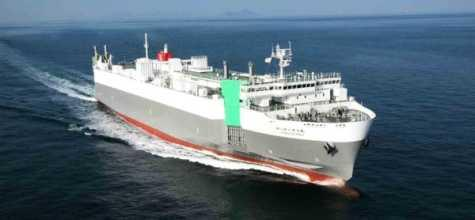warship: (82, 36, 374, 180)
